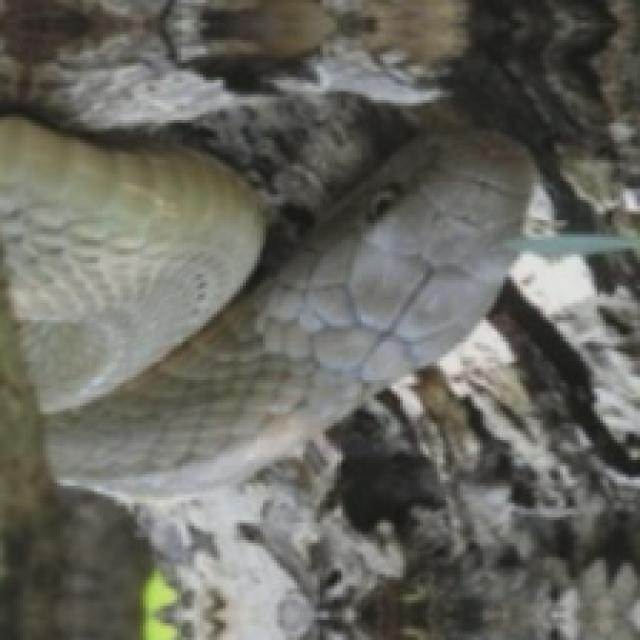king cobra: (0, 0, 526, 494), (454, 0, 609, 223)
